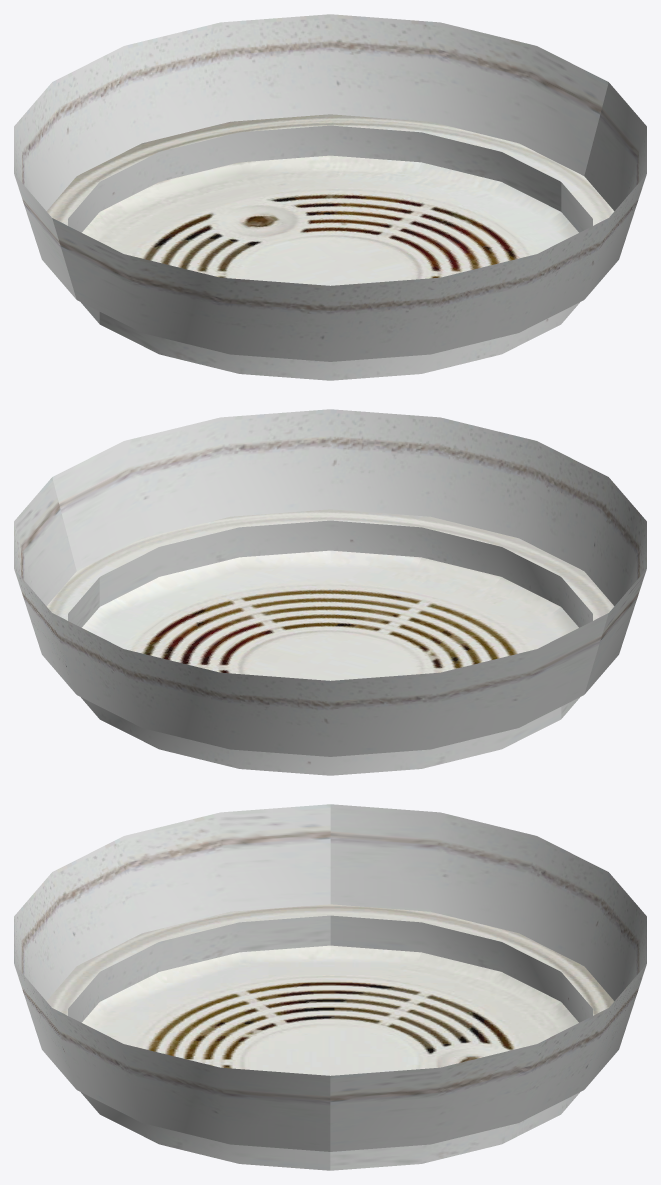
Rendered from detector_3ds.fbx.
The picture shows the model from 3 angles, top to bottom: view 1: azimuth 30°, elevation 25°; view 2: azimuth 150°, elevation 25°; view 3: azimuth 270°, elevation 25°; orthographic projection.
Visible parts, largest first — view 1: Cylinder01; view 2: Cylinder01; view 3: Cylinder01.
Boxes of the visible parts, left/top/right/bottom form: Cylinder01: left=14, top=14, right=646, bottom=380; Cylinder01: left=14, top=409, right=646, bottom=775; Cylinder01: left=14, top=804, right=646, bottom=1170.
Size of the model in its own units: 48.61 by 10.32 by 47.88.
Materials: 1 (1 with a texture image).
